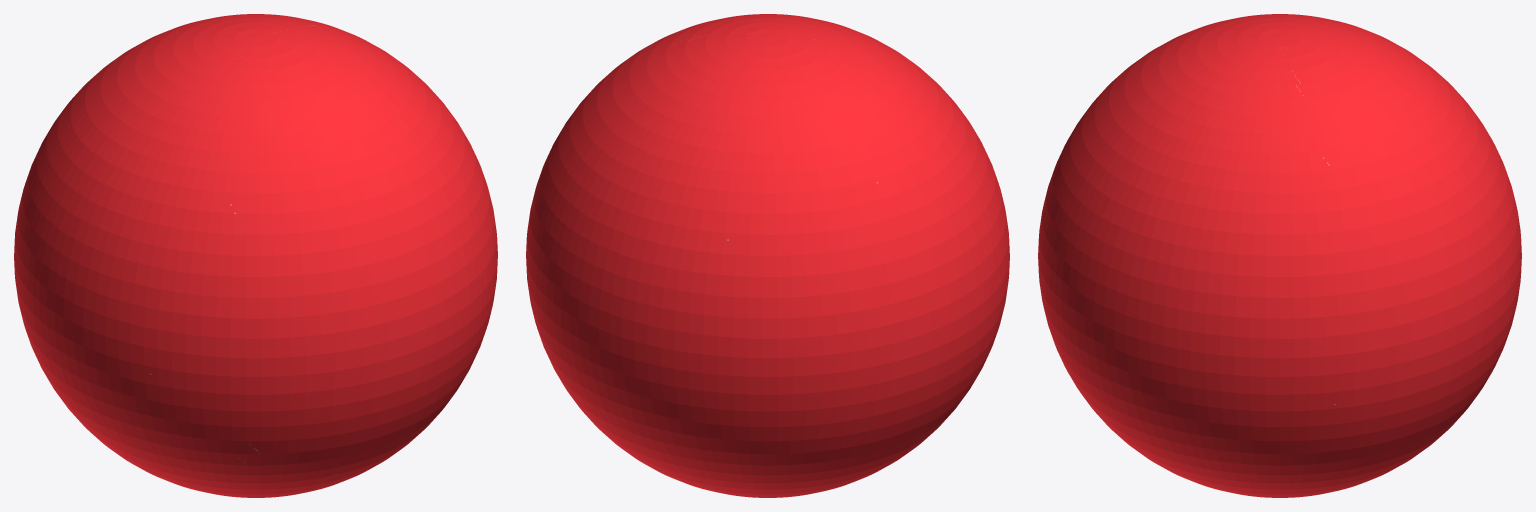
File: player.glb
3 views of the same model, side by side, from view 1: azimuth 30°, elevation 25°; view 2: azimuth 150°, elevation 25°; view 3: azimuth 270°, elevation 25° (orthographic).
Parts seen in each view (by area): view 1: Сфера; view 2: Сфера; view 3: Сфера.
Part boxes in pixels (bbox=[...]): Сфера: bbox=[14, 14, 497, 497]; Сфера: bbox=[526, 14, 1009, 497]; Сфера: bbox=[1038, 14, 1521, 497].
Size of the model in its own units: 2 by 2 by 2.
1 material, 1 textured.
